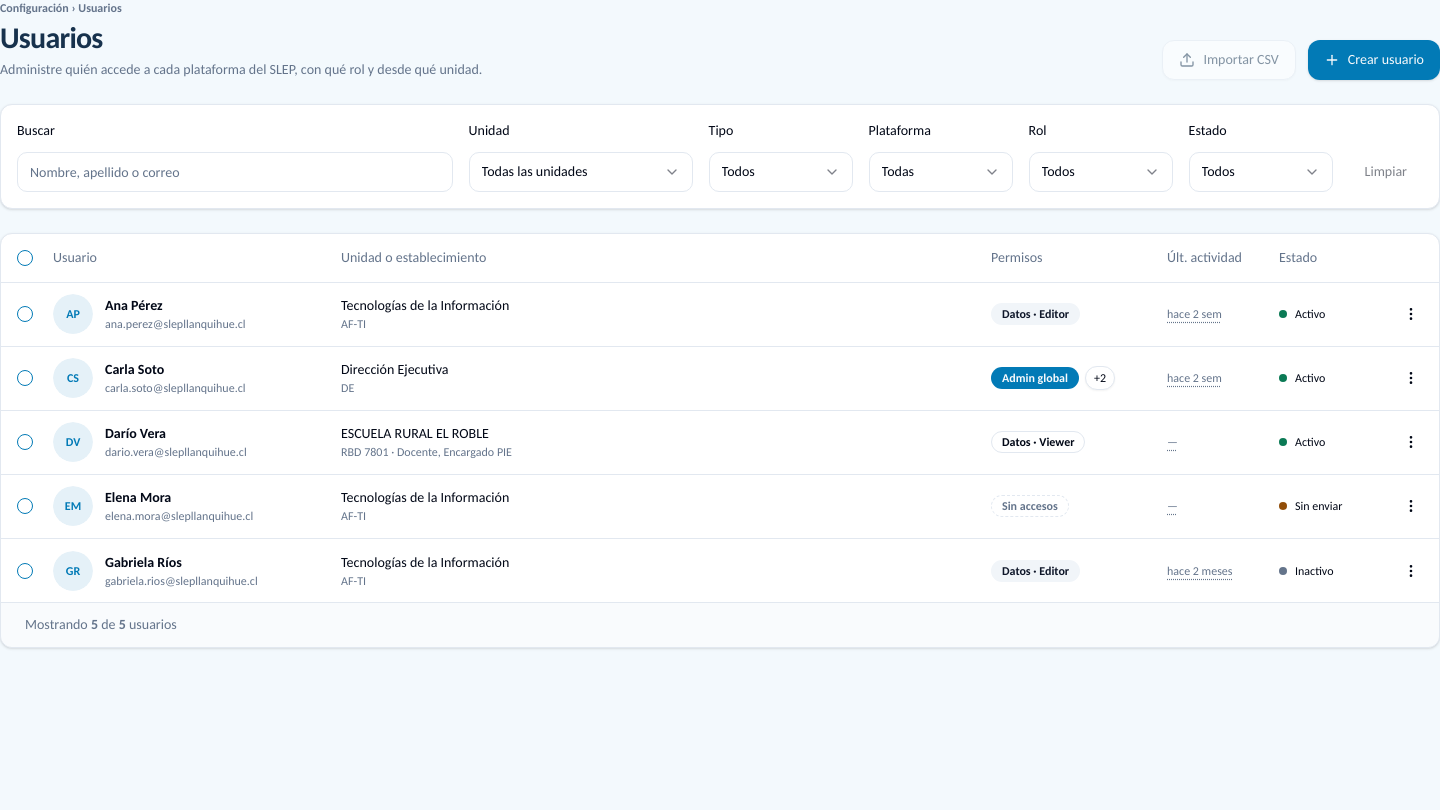
Test: FE09: crear usuario › FE09-E: usuario de establecimiento sin establecimiento ni cargo no se envía
Expected: the text "Ana Pérez" is shown, 105,297 -> 163,314
Click the button "Crear usuario" at (1374, 60), box 1308,40 -> 1439,80
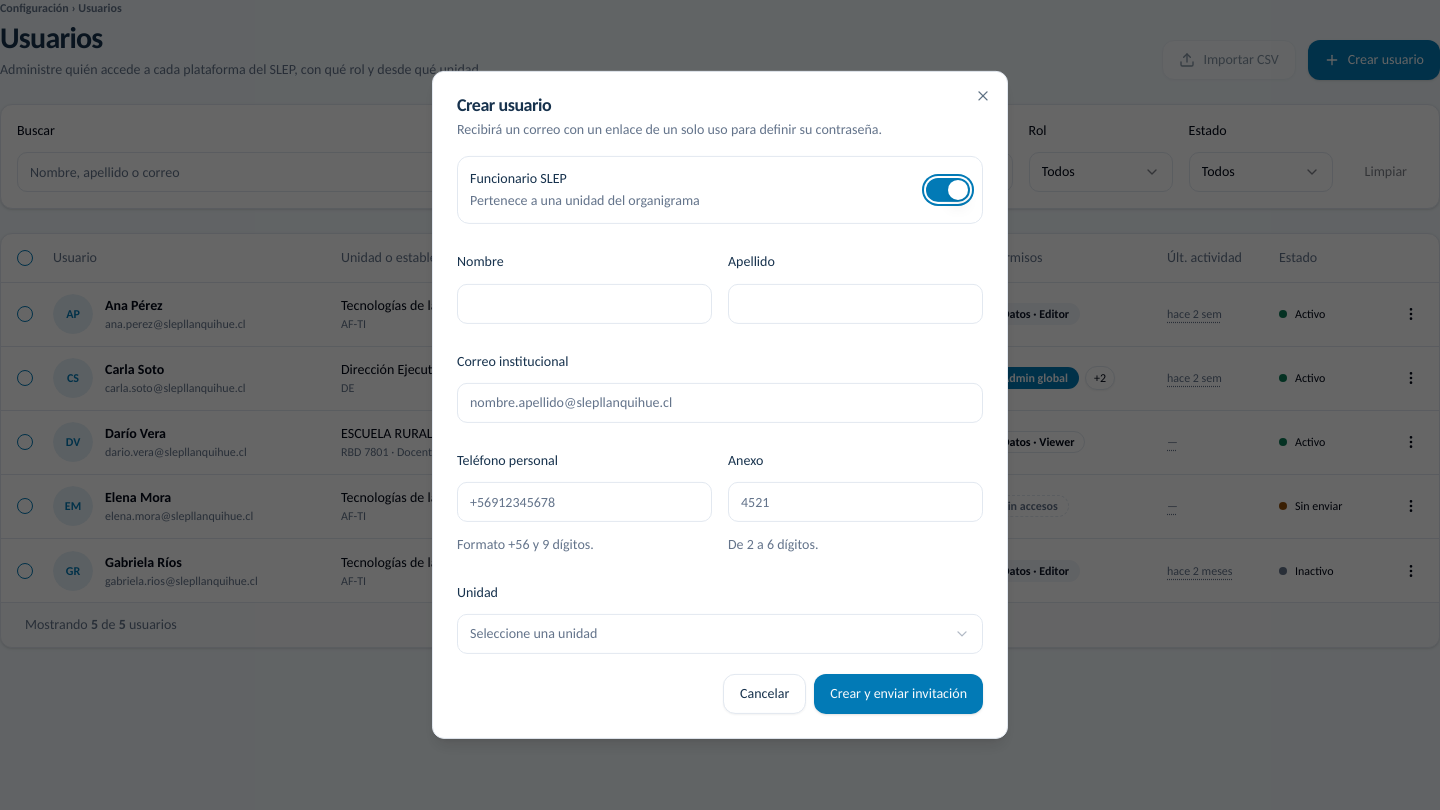
Type "Nuevo" into the field labelled "Nombre" at (584, 303), box 457,283 -> 712,323
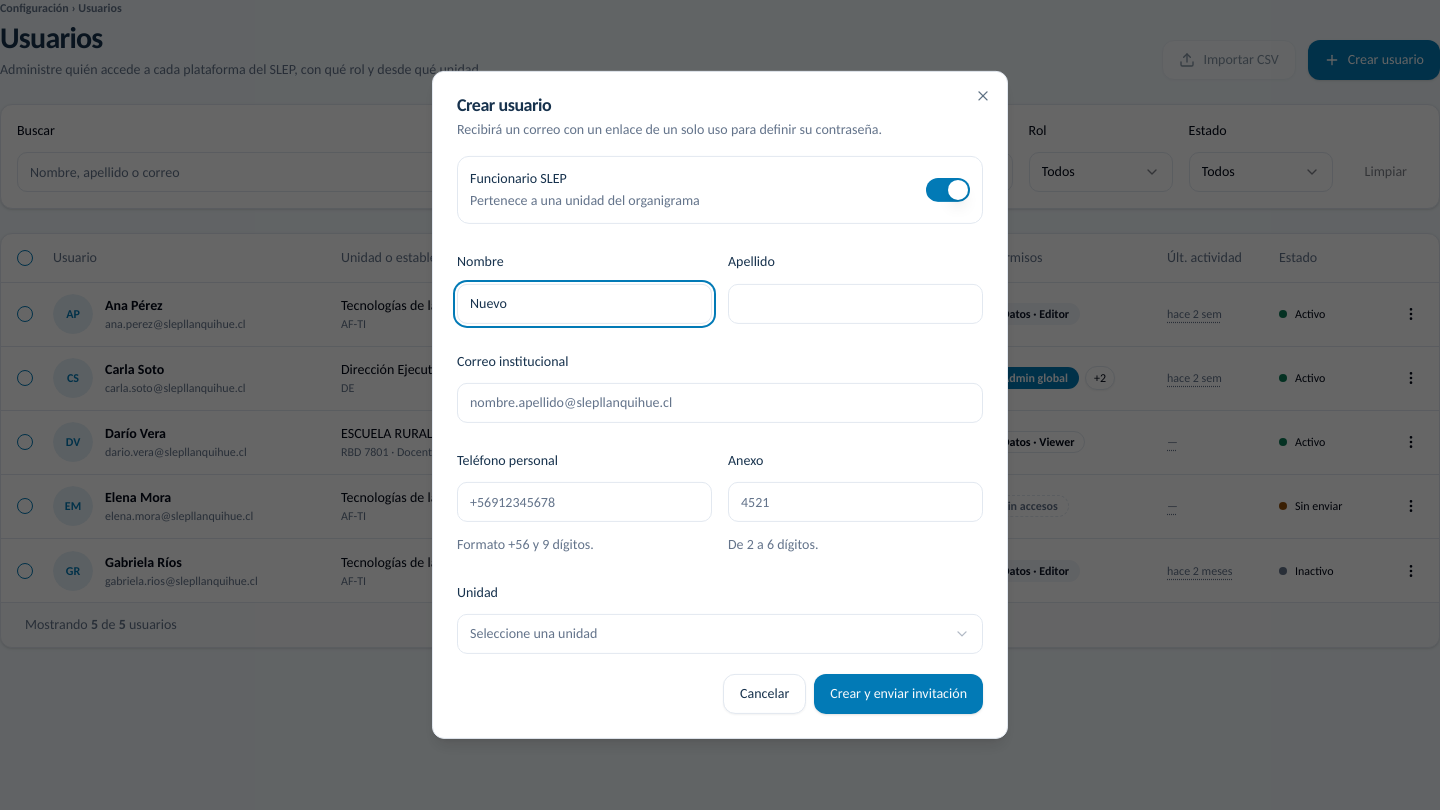
Type "Usuario" into the field labelled "Apellido" at (856, 303), box 728,283 -> 983,323
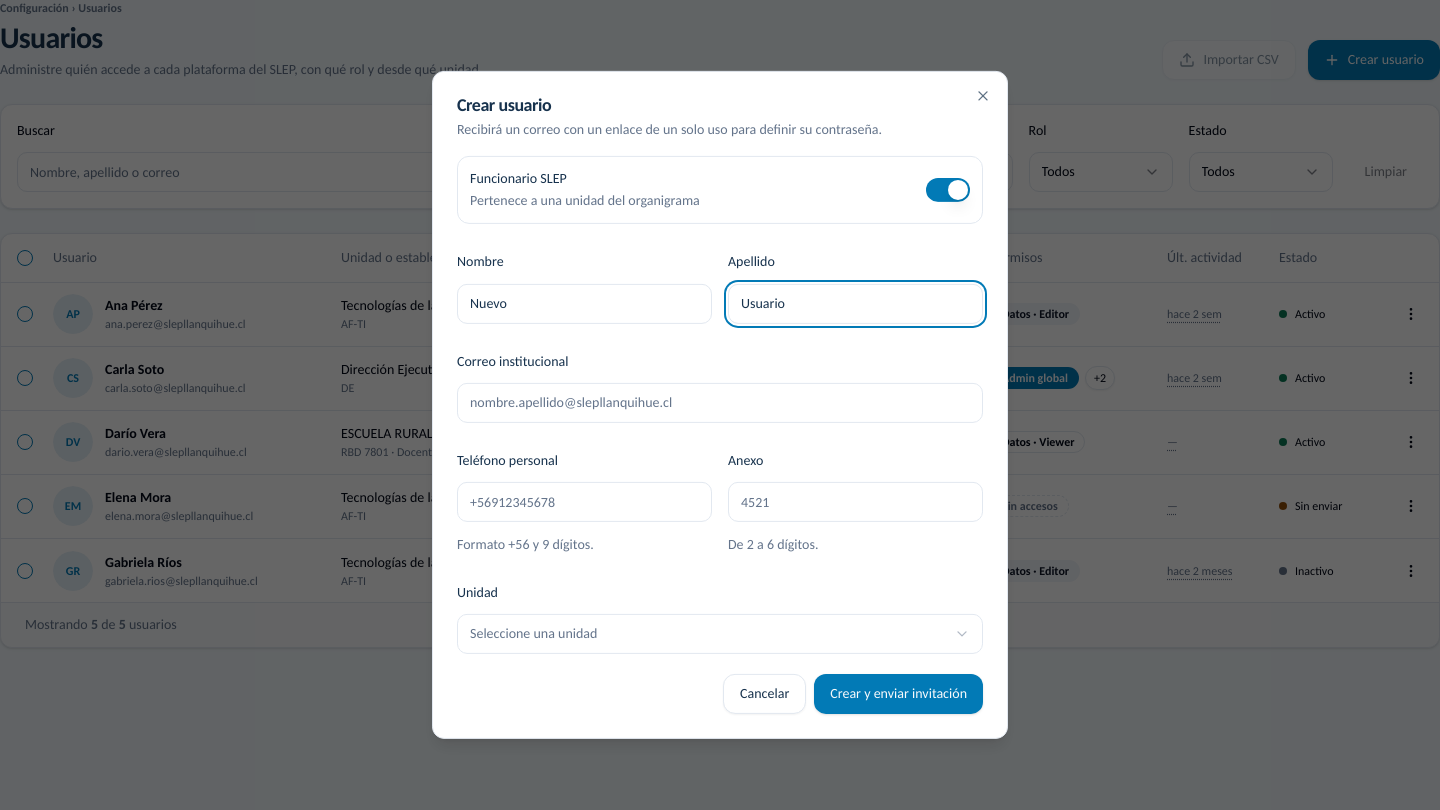
Type "nuevo.usuario@slepllanquihue.cl" into the field labelled "Correo institucional" at (720, 403), box 457,383 -> 983,423
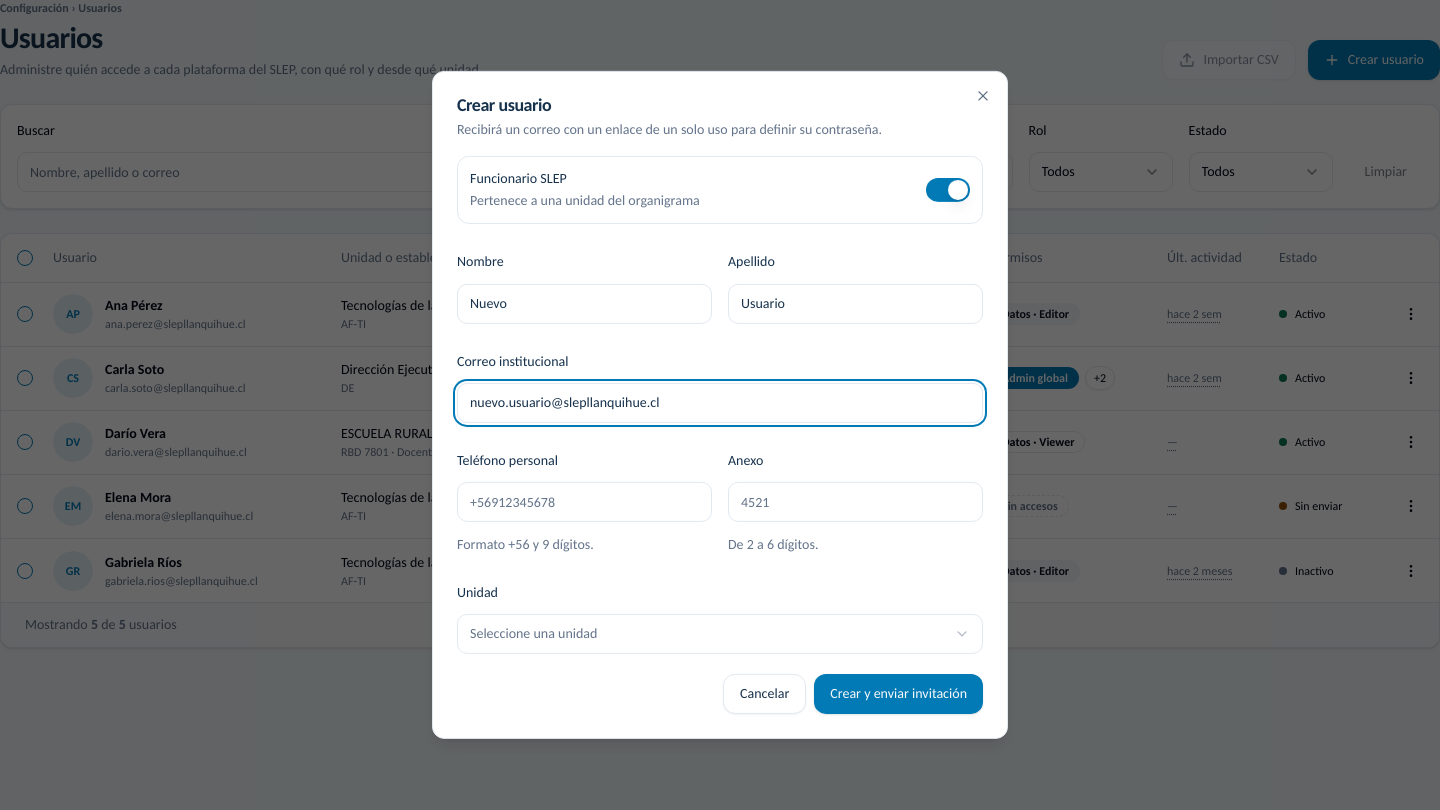
Click the switch named "Funcionario SLEP" at (948, 190), box 926,178 -> 970,202
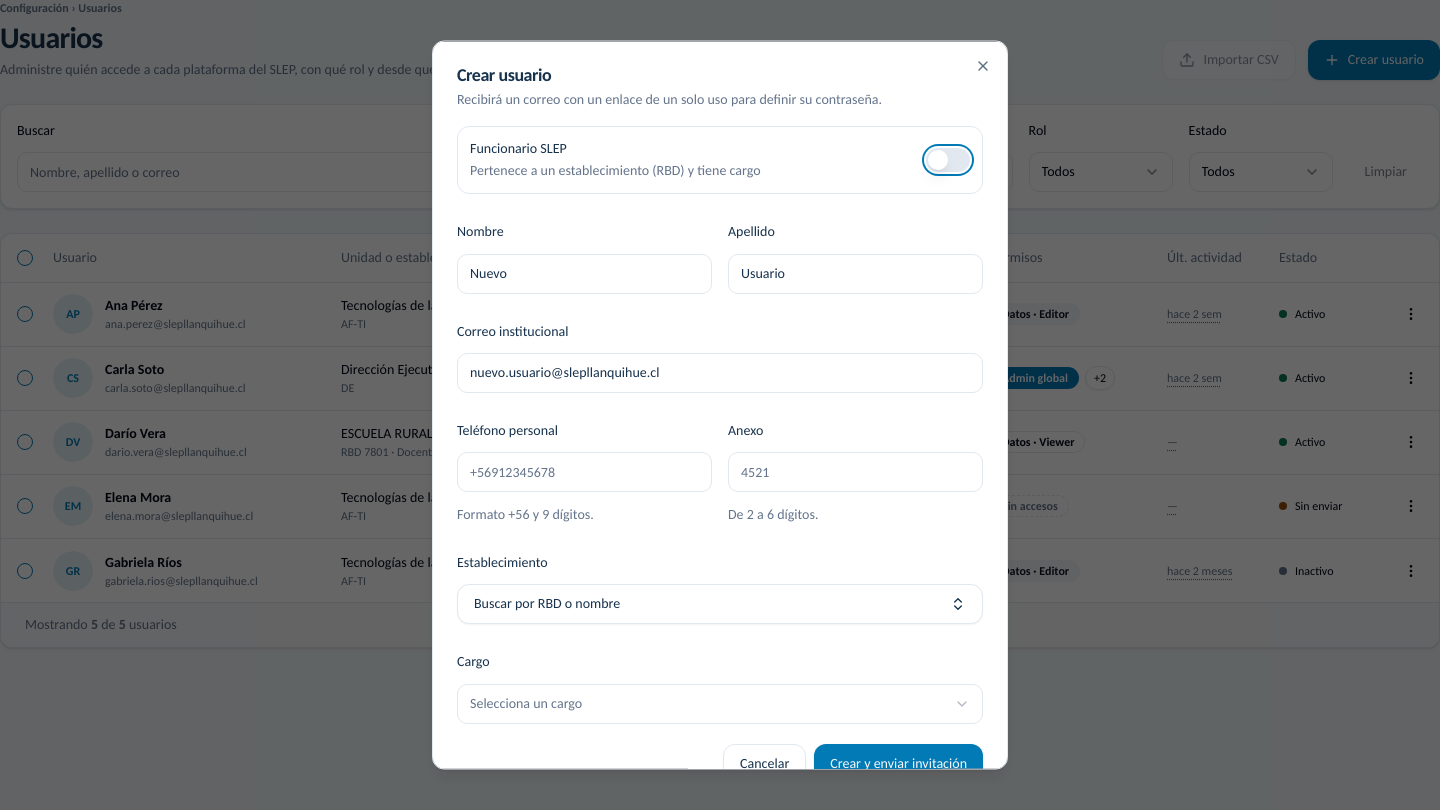
Click the button "Crear y enviar invitación" at (899, 763), box 814,743 -> 983,783
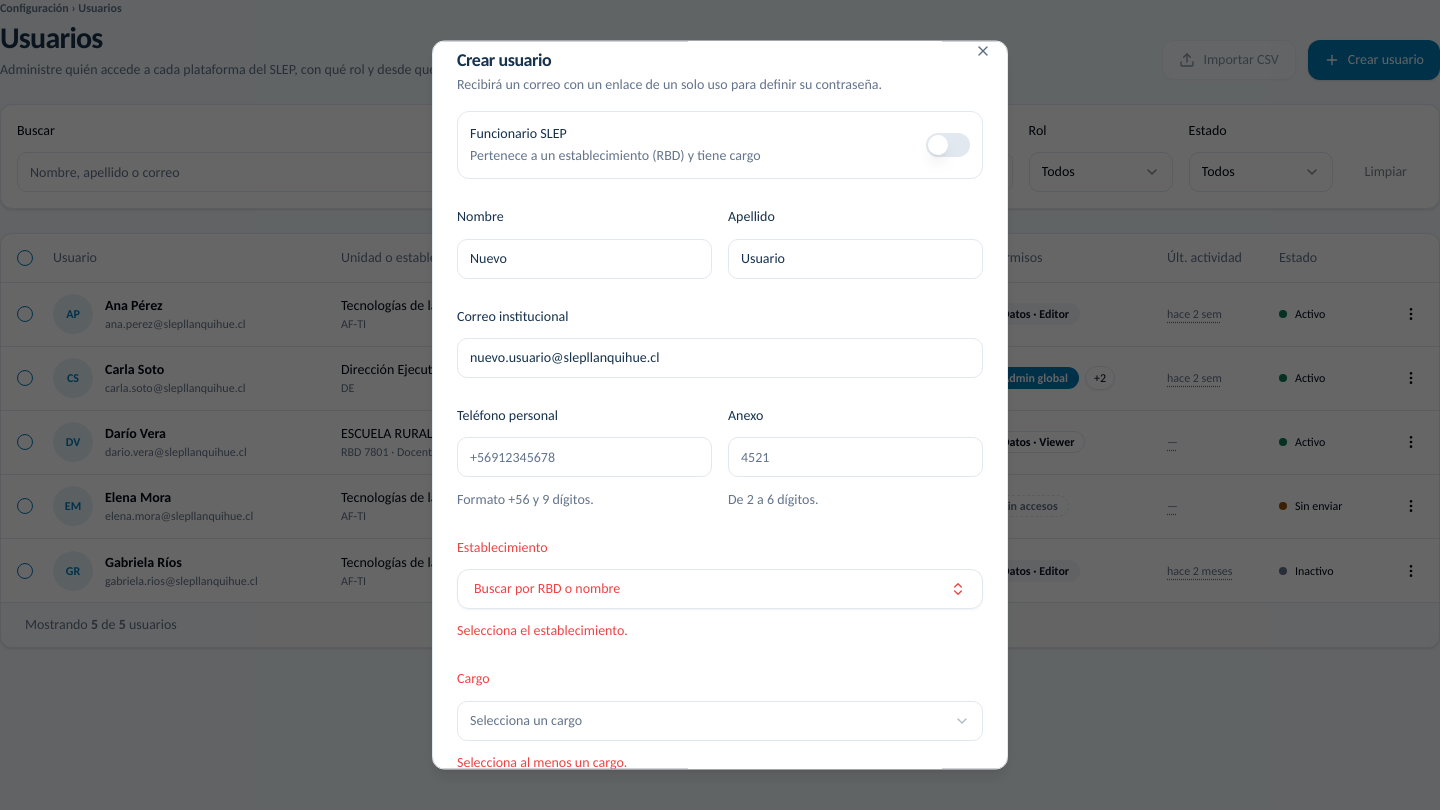
Now the text "Selecciona el establecimiento." is shown, box 457,622 -> 628,639
Now the text "Selecciona al menos un cargo." is shown, box 457,753 -> 627,770
